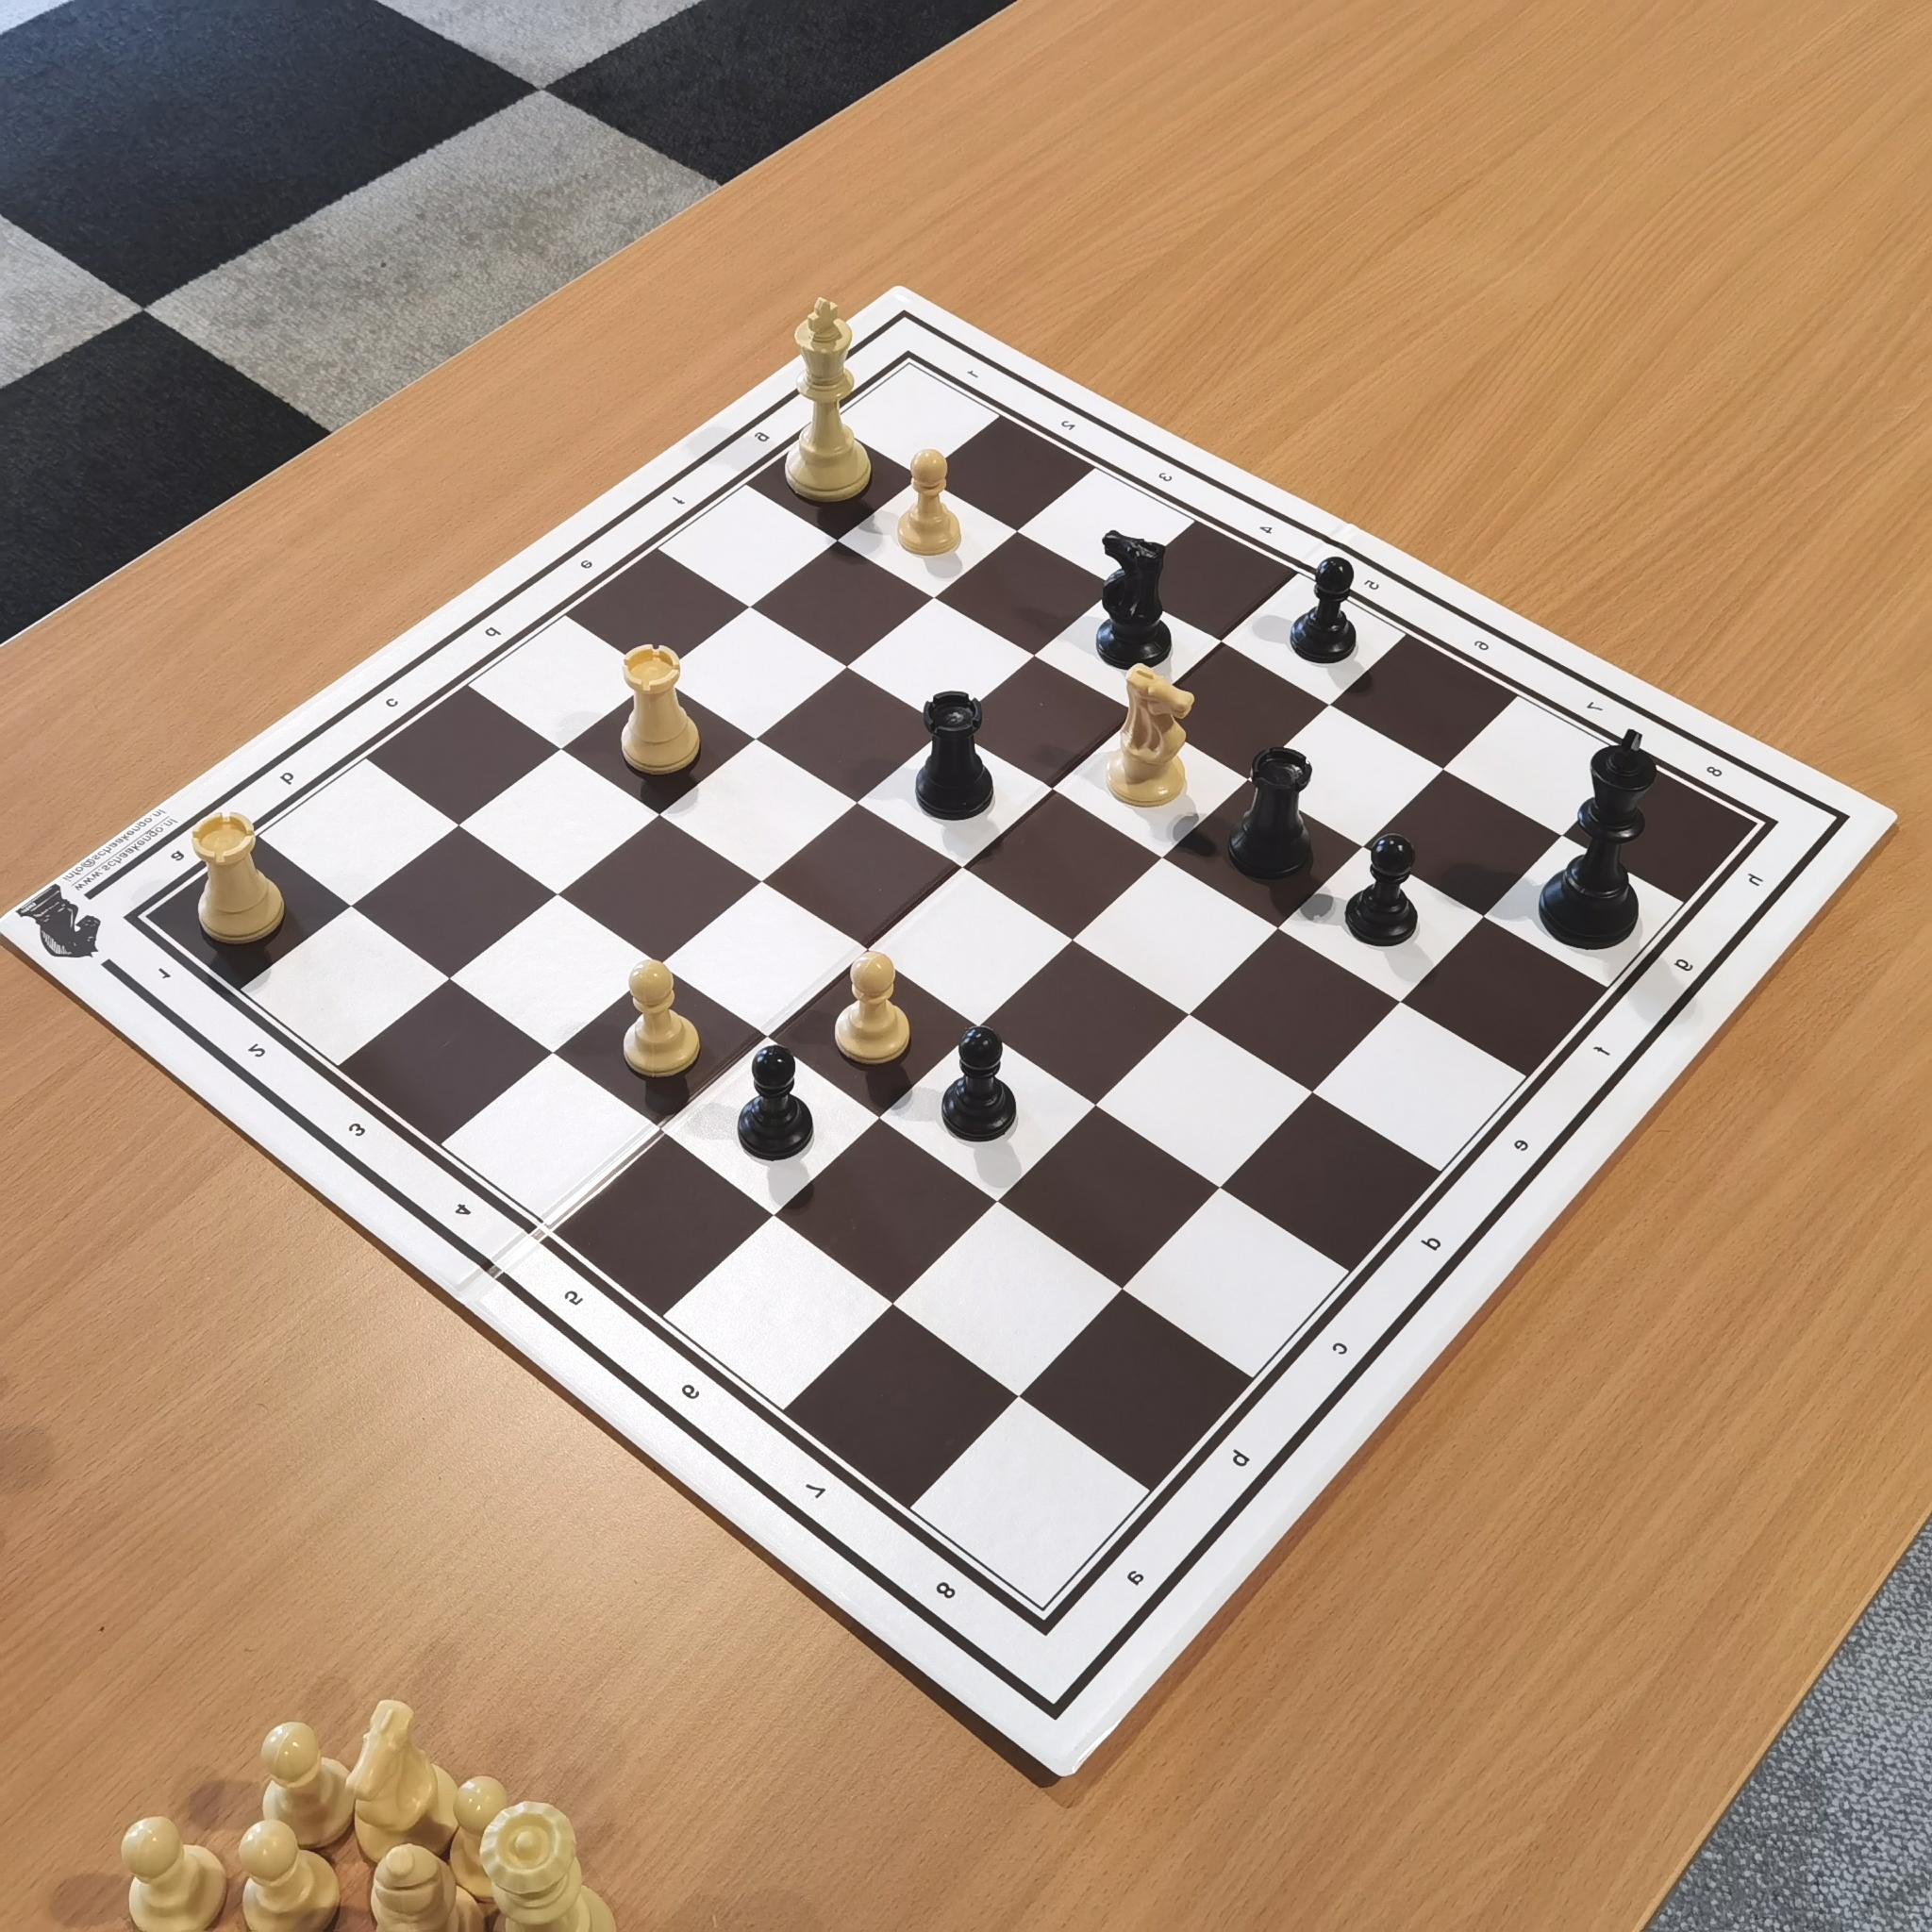corners: (1008, 1586, 1076, 1652), (104, 900, 165, 949), (1729, 805, 1793, 849), (879, 342, 931, 384)
eight: (924, 1561, 972, 1614), (1689, 742, 1731, 797)
one: (138, 952, 181, 996), (952, 352, 989, 389)
